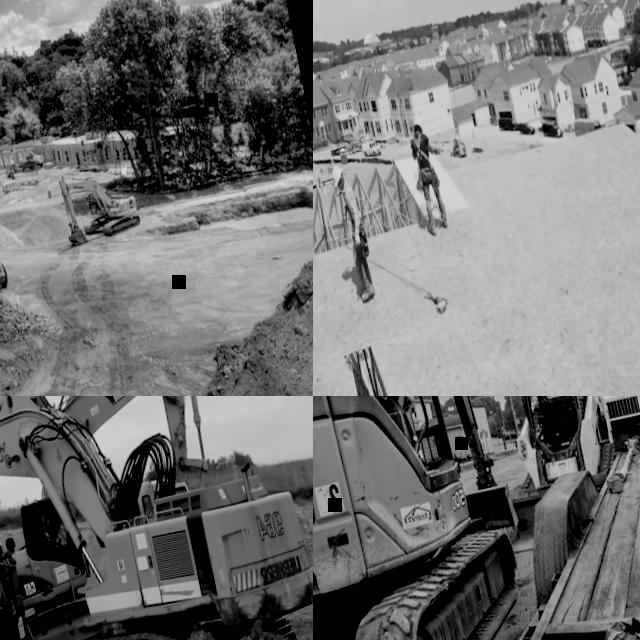helmet: (331, 164, 346, 186), (412, 119, 423, 132)
machinery: (0, 396, 313, 640), (0, 396, 247, 640), (313, 396, 554, 640), (466, 396, 629, 555), (56, 160, 142, 248), (595, 396, 640, 432), (342, 133, 362, 155)
no_mask: (338, 183, 344, 190)
no_vest: (412, 133, 433, 169)
person: (331, 162, 378, 300), (406, 116, 450, 236), (42, 517, 56, 545)
vehicle: (541, 118, 564, 140), (361, 138, 382, 158), (497, 114, 518, 133), (516, 119, 536, 136)
vest: (45, 528, 55, 542)
